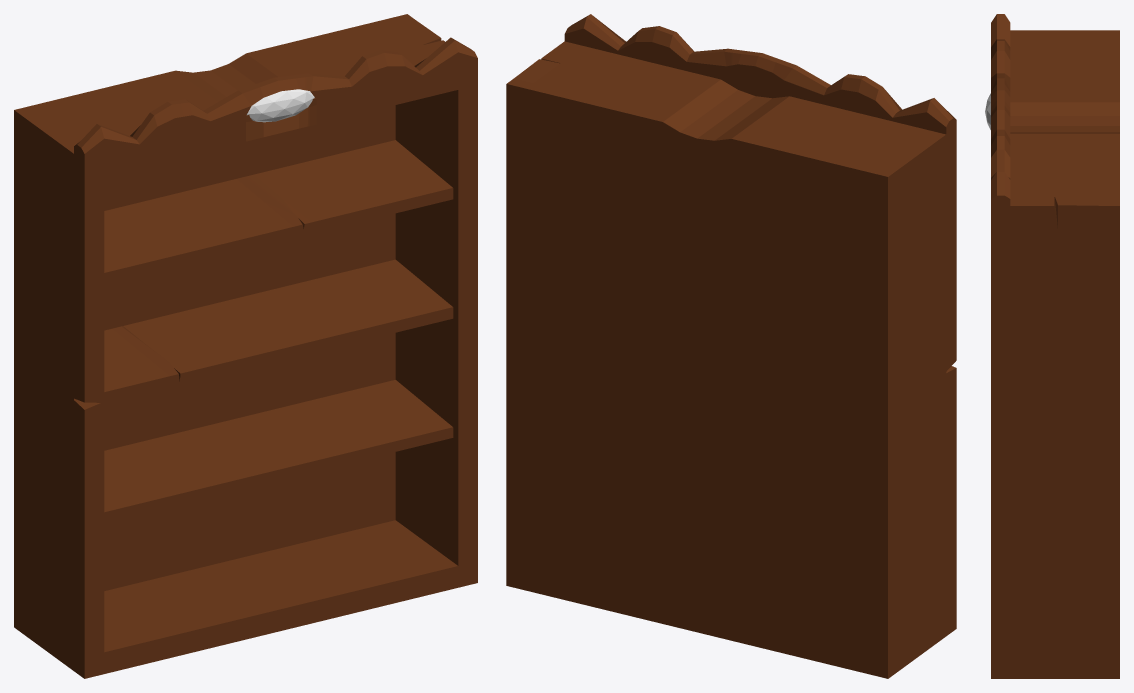
Rendered from BookCase.fbx.
3 renders of one model, left to right at view 1: azimuth 30°, elevation 25°; view 2: azimuth 150°, elevation 25°; view 3: azimuth 270°, elevation 25°, orthographic. The views are drawn at different scales.
Parts seen in each view (by area): view 1: Cube, Icosphere; view 2: Cube; view 3: Cube.
Part boxes in pixels (bbox=[...]): Cube: bbox=[14, 14, 477, 678]; Icosphere: bbox=[247, 89, 314, 122]; Cube: bbox=[506, 14, 956, 678]; Cube: bbox=[991, 14, 1119, 678].
Bounding box in the file's own units: 799 × 1068 × 260.
